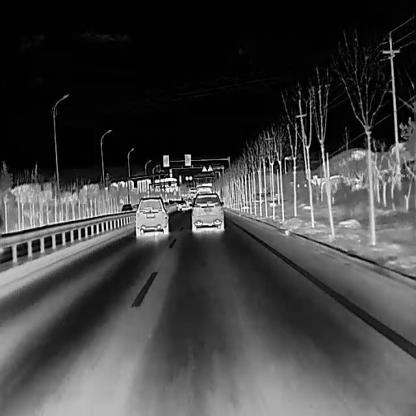car: (190, 191, 224, 232), (134, 195, 167, 237), (119, 203, 132, 222), (176, 199, 186, 211)
